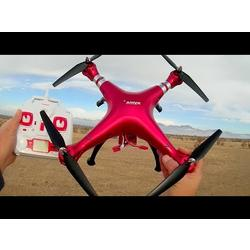drone: (40, 53, 222, 196)
